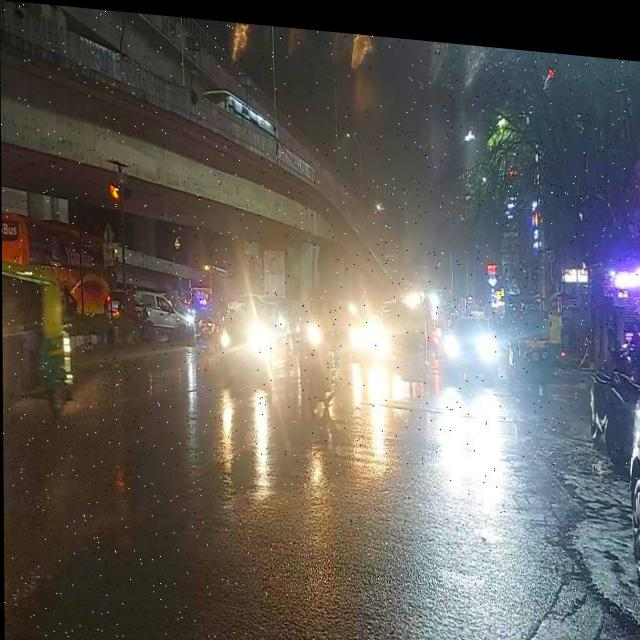bus: (1, 207, 116, 347), (196, 80, 293, 153)
car: (218, 291, 292, 385), (124, 280, 204, 348), (445, 306, 501, 402), (340, 307, 392, 356), (221, 290, 285, 324), (423, 286, 448, 329), (397, 287, 424, 324)
motorcycle: (1, 259, 95, 420), (294, 308, 344, 423), (509, 304, 563, 401), (114, 280, 156, 347)
